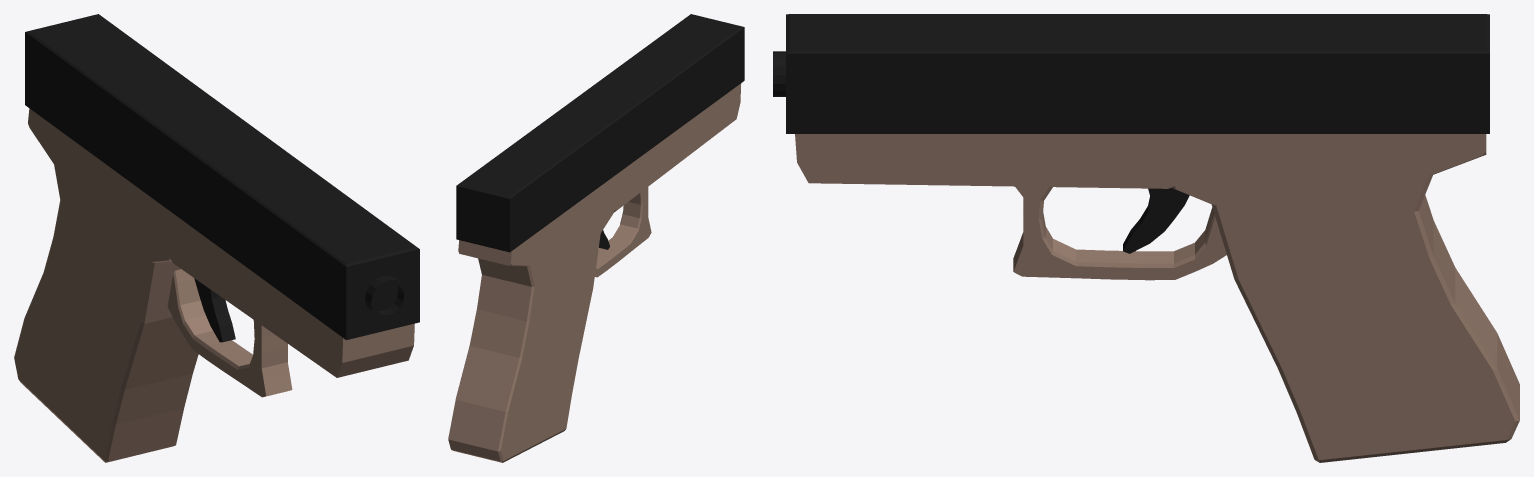
Rendered from hand gun.fbx.
The picture shows the model from 3 angles, left to right: view 1: azimuth 30°, elevation 25°; view 2: azimuth 150°, elevation 25°; view 3: azimuth 270°, elevation 25°; orthographic projection. The views are drawn at different scales.
Visible parts, largest first — view 1: Body, top, trigger, canon; view 2: Body, top; view 3: Body, top, trigger.
Part boxes in pixels (x1=…): Body: x1=14, y1=108, x2=414, y2=462; top: x1=25, y1=14, x2=419, y2=340; trigger: x1=194, y1=278, x2=235, y2=342; canon: x1=365, y1=275, x2=406, y2=318; Body: x1=448, y1=83, x2=741, y2=462; top: x1=456, y1=14, x2=744, y2=252; Body: x1=795, y1=134, x2=1519, y2=462; top: x1=786, y1=14, x2=1489, y2=133; trigger: x1=1123, y1=188, x2=1189, y2=253.
Bounding box in the file's own units: 2.91 × 14.2 × 23.33.
